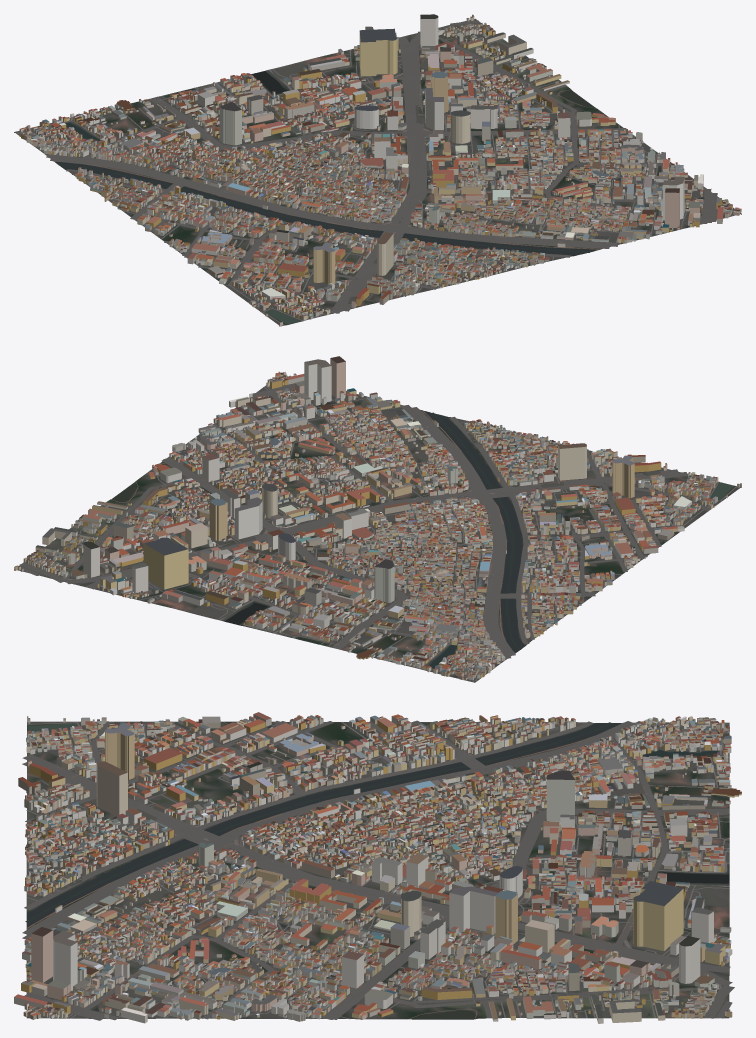
3 views of the same model, one above another, from view 1: azimuth 30°, elevation 25°; view 2: azimuth 150°, elevation 25°; view 3: azimuth 270°, elevation 25° (orthographic). The views are drawn at different scales.
Parts seen in each view (by area): view 1: buildings, ground, roads, water; view 2: buildings, ground, roads, water; view 3: buildings, ground, roads, water.
Part boxes in pixels (x1,y1,x2,y2): buildings: [19, 14, 741, 326]; ground: [14, 18, 741, 325]; roads: [16, 20, 734, 325]; water: [55, 69, 597, 324]; buildings: [14, 356, 741, 680]; ground: [14, 376, 740, 682]; roads: [19, 383, 736, 682]; water: [111, 401, 733, 668]; buildings: [14, 712, 741, 1023]; ground: [26, 721, 729, 1019]; roads: [22, 720, 734, 1020]; water: [25, 722, 728, 1018].
Bounding box in the file's own units: 1441 × 109 × 1452.
